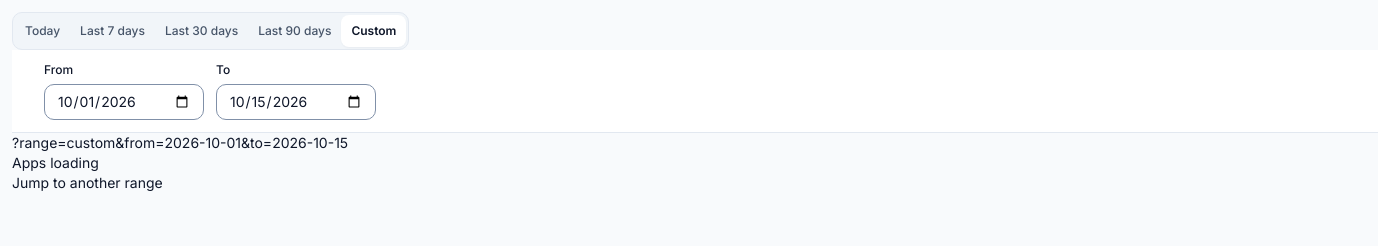
Test case: custom dates › says what is wrong with a range, and leaves the address alone until it is fine
Type "2026-10-20" into the date field labelled "From".
click(124, 102); type("2026-10-20")  # box [44,84,204,120]
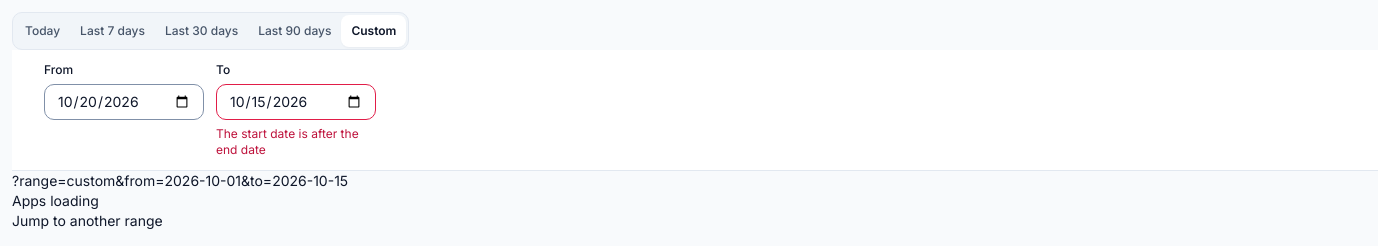
Expected: the text with test id "address" reads "?range=custom&from=2026-10-01&to=2026-10-15", [12,172,348,189]
Result: the text "The start date is after the end date" is shown at [216,126,376,158]
Type "2025-01-01" into the date field labelled "From".
click(124, 102); type("2025-01-01")  # box [44,84,204,120]
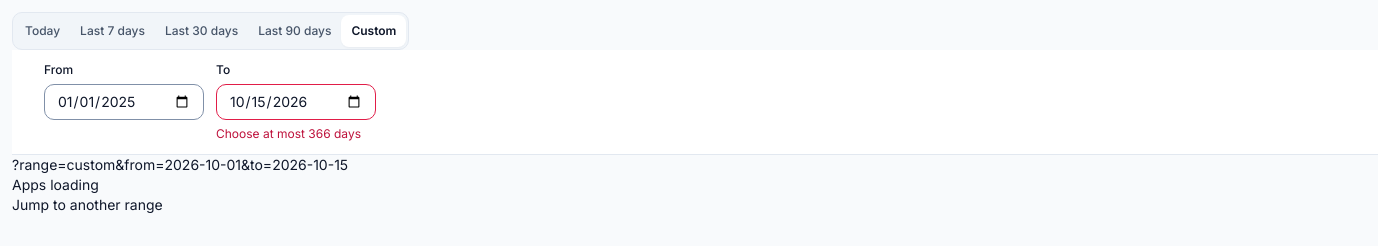
Expected: the text with test id "address" reads "?range=custom&from=2026-10-01&to=2026-10-15", [12,156,348,173]
Result: the text "Choose at most 366 days" is shown at [216,126,376,142]
Type "2026-10-10" into the date field labelled "From".
click(124, 102); type("2026-10-10")  # box [44,84,204,120]
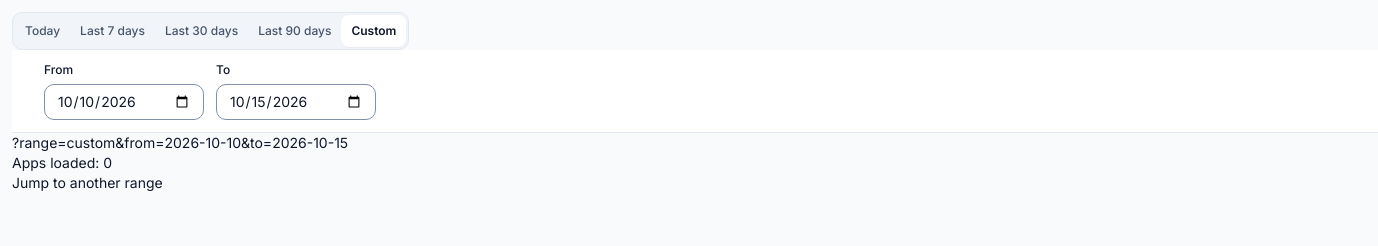
Result: the text "Choose at most 366 days" is gone
Result: the text with test id "address" reads "?range=custom&from=2026-10-10&to=2026-10-15" at [12,134,348,151]
